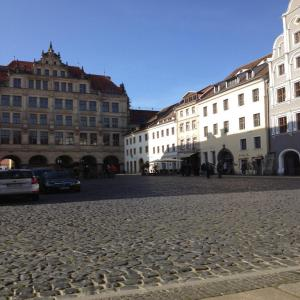Vehicle-registration-plate: (7, 185, 24, 188)
